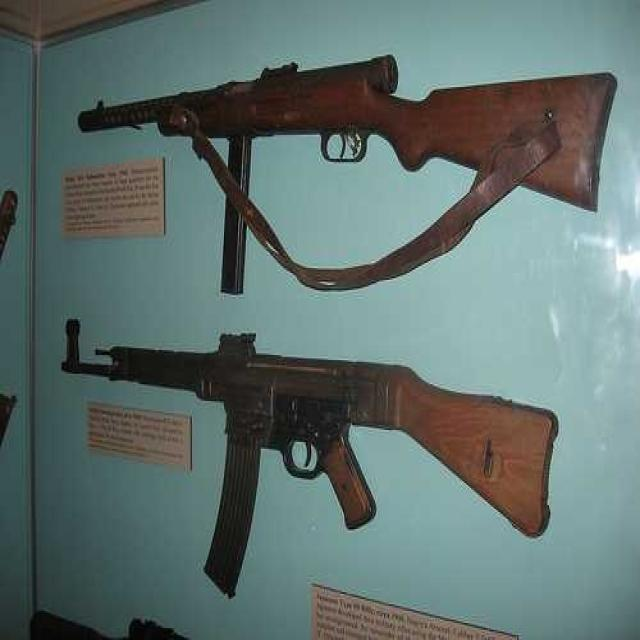AntRifle: (63, 49, 619, 169)
Rifle: (52, 301, 612, 482)
